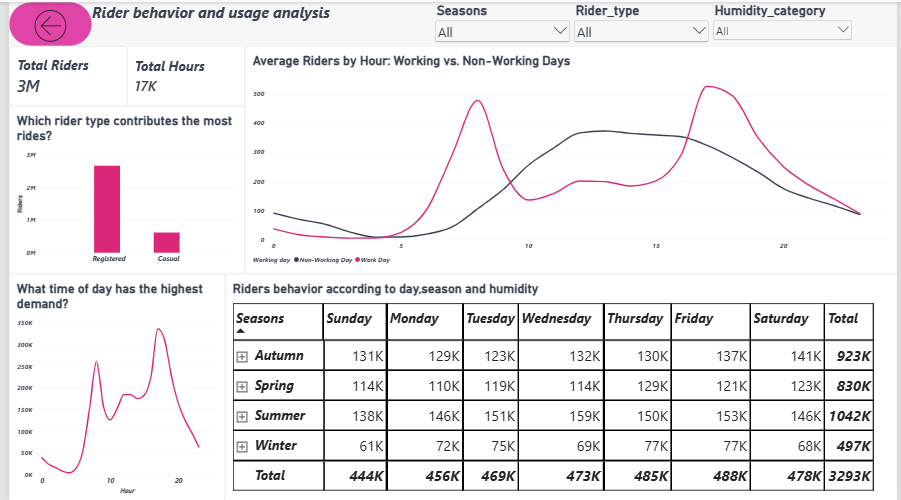

Layout of this report page (visuals, bound fields, positions):
{"tool":"powerbi","page":{"name":" Rider behavior and usage analysis","canvas":[1920,1080],"ordinal":1},"visuals":[{"type":"textbox","box":[179.3,0,609.1,62.6],"z":0},{"type":"cardVisual","title":"Total Riders","fields":{"Data":["Sum(bike.riders)"]},"box":[0,95,254.9,129.6],"z":1000},{"type":"cardVisual","fields":{"Data":["bike.Total Hours"]},"box":[254.9,95,254.9,129.6],"z":2000},{"type":"pivotTable","title":"Riders behavior according to day,season and humidity","fields":{"Values":["Sum(bike.riders)"],"Rows":["bike.seasons","bike.Humidity_category"],"Columns":["bike.Week_day"]},"box":[466.6,587.5,1453.7,492.5],"z":3000},{"type":"lineChart","title":"Average Riders by Hour: Working vs. Non-Working Days","fields":{"Category":["bike.hour"],"Series":["bike.Working Day"],"Y":["bike.AVG Riders"]},"box":[509.8,95,1410.5,492.5],"z":4000},{"type":"columnChart","title":"Which rider type contributes the most rides?","fields":{"Category":["bike.rider_type"],"Y":["Sum(bike.riders)"]},"box":[0,224.6,509.8,362.9],"z":5000},{"type":"lineChart","title":"What time of day has the highest demand?","fields":{"Y":["Sum(bike.riders)"],"Category":["bike.hour"]},"box":[0,587.5,466.6,492.5],"z":6000},{"type":"slicer","fields":{"Values":["bike.seasons"]},"box":[915.8,0,300.2,95],"z":7000},{"type":"slicer","fields":{"Values":["bike.rider_type"]},"box":[1216.1,0,300.2,95],"z":8000},{"type":"slicer","fields":{"Values":["bike.Humidity_category"]},"box":[1516.3,0,308.9,95],"z":9000},{"type":"actionButton","box":[0,0,179.3,95],"z":10000}]}

Visuals, with their boxes in screenshot pixels (x1, y1, x2, y2), scaled from the page's 1920x1080 canvas onto the 901x500 screenshot:
textbox: left=84, top=0, right=370, bottom=29
"Total Riders" cardVisual: left=0, top=44, right=120, bottom=104
cardVisual - bike.Total Hours: left=120, top=44, right=239, bottom=104
"Riders behavior according to day,season and humidity" pivotTable: left=219, top=272, right=900, bottom=499
"Average Riders by Hour: Working vs. Non-Working Days" lineChart: left=239, top=44, right=900, bottom=272
"Which rider type contributes the most rides?" columnChart: left=0, top=104, right=239, bottom=272
"What time of day has the highest demand?" lineChart: left=0, top=272, right=219, bottom=499
slicer - bike.seasons: left=430, top=0, right=571, bottom=44
slicer - bike.rider_type: left=571, top=0, right=712, bottom=44
slicer - bike.Humidity_category: left=712, top=0, right=857, bottom=44
actionButton: left=0, top=0, right=84, bottom=44
